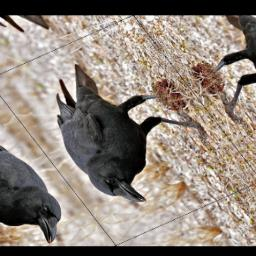Crow: (18, 38, 231, 216)
